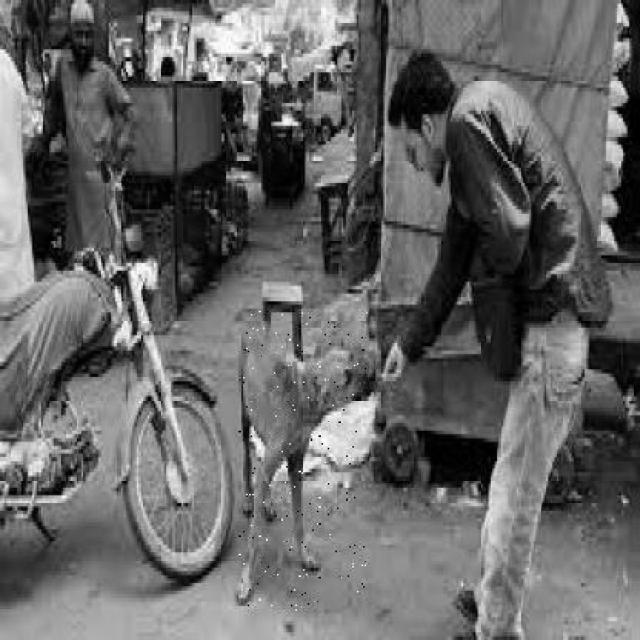Dog: (237, 311, 371, 612)
